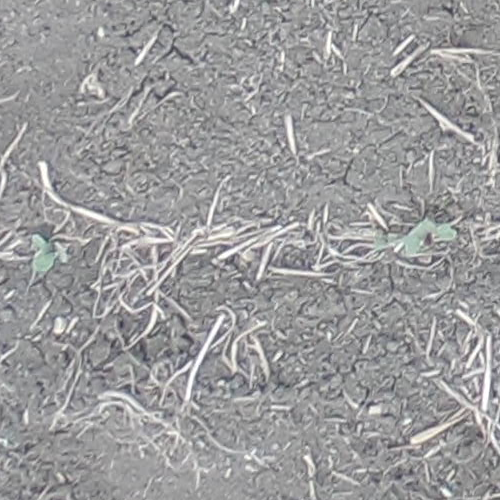plant: (397, 217, 456, 258), (31, 231, 65, 274)
